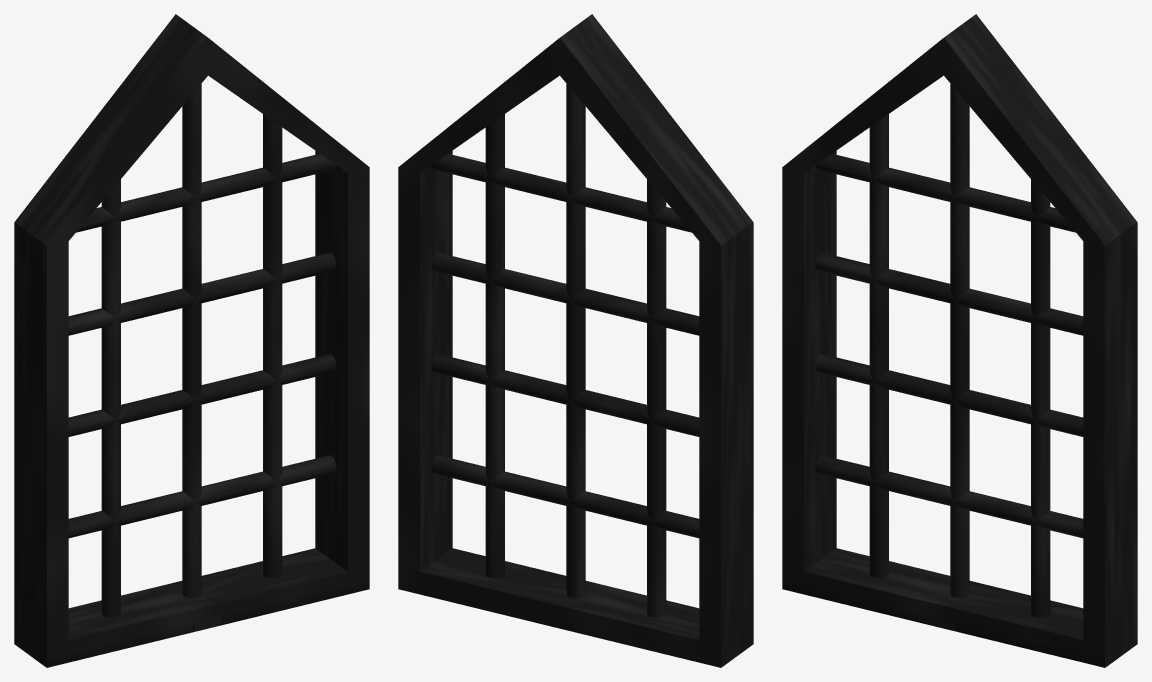
Rendered from Iron Bars.fbx.
The picture shows the model from 3 angles, left to right: view 1: azimuth 30°, elevation 25°; view 2: azimuth 150°, elevation 25°; view 3: azimuth 330°, elevation 25°; orthographic projection.
Visible parts, largest first — view 1: Cylinder; view 2: Cylinder; view 3: Cylinder.
Part boxes in pixels (bbox=[...]): Cylinder: bbox=[14, 14, 369, 667]; Cylinder: bbox=[398, 14, 753, 667]; Cylinder: bbox=[782, 14, 1137, 667].
Size of the model in its own units: 131 by 229 by 22.76.
